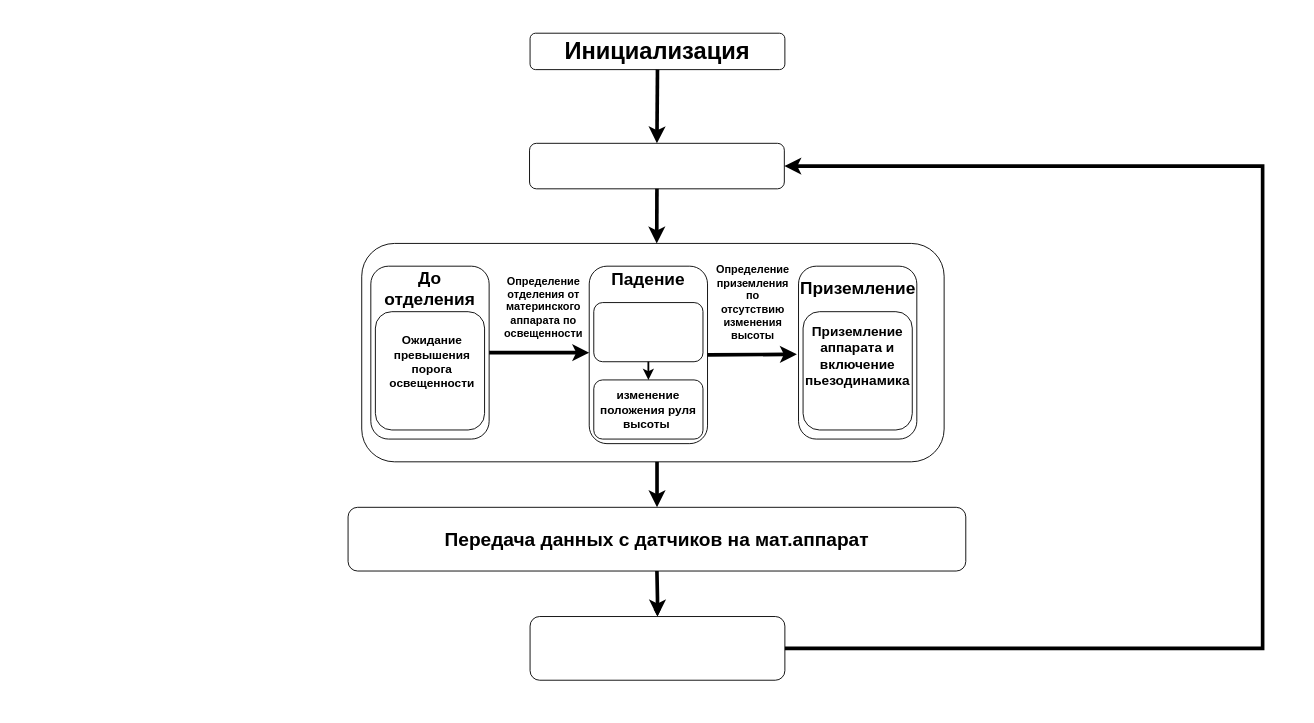
The diagram is 1314 pixels wide and 723 high, and some of its shapes have lost their labels. Here are the shapes that lost their labels. From the top down, the centre of each, then its label:
the point at 656,165: Сбор данных с датчиков
the point at 648,332: определения отклонения от горизонтальной плоскости
the point at 657,648: Запись данных с датчиков на SD карту
